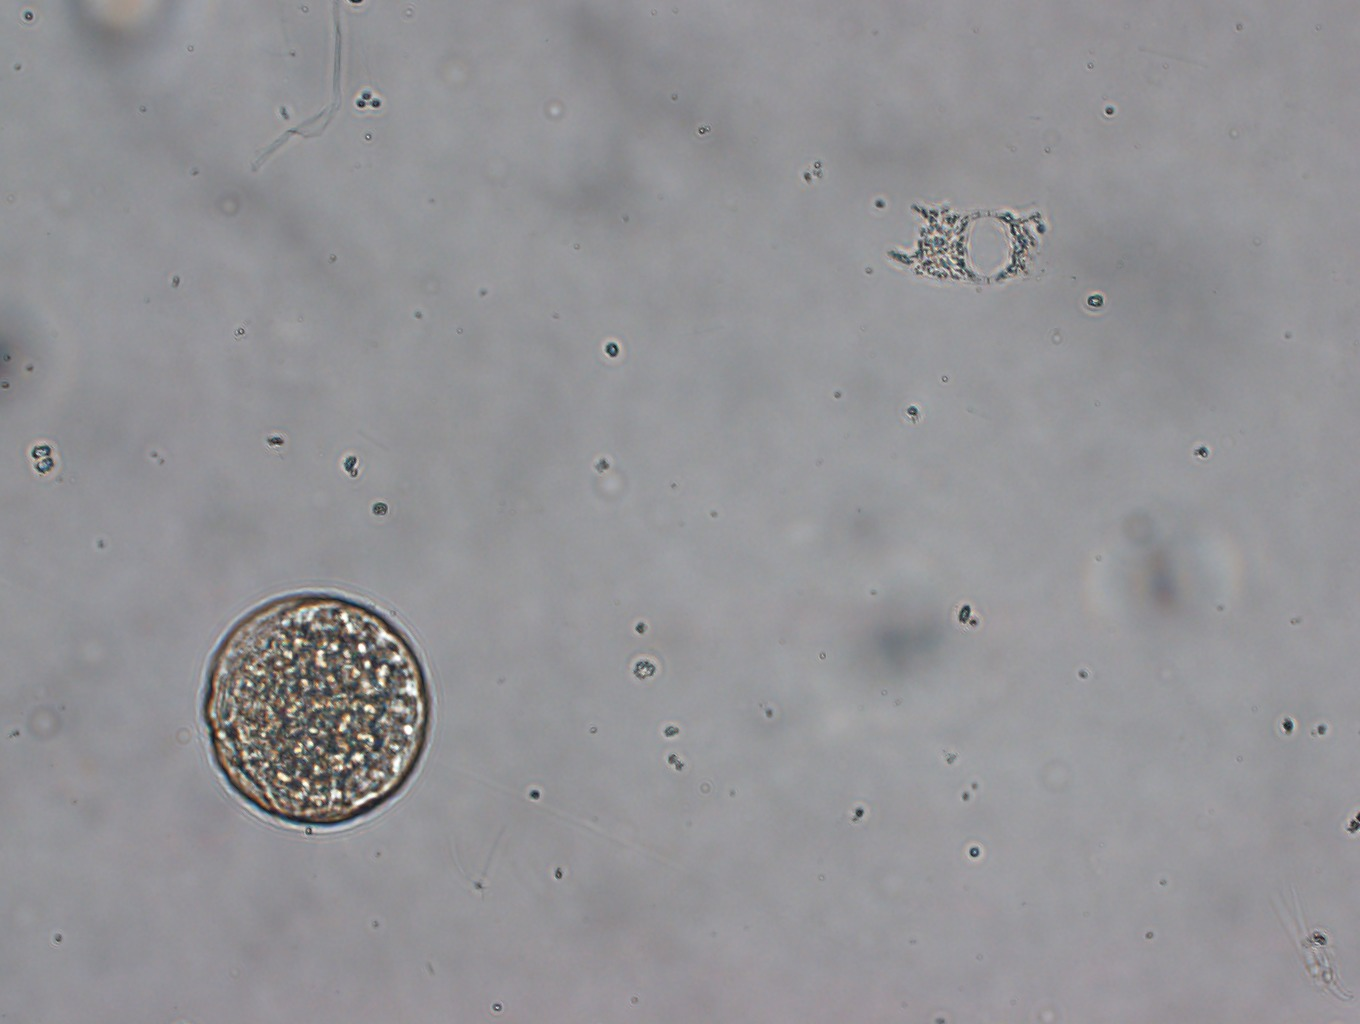coscinodiscus: (196, 586, 435, 833)
eucampia: (886, 200, 1051, 287)
